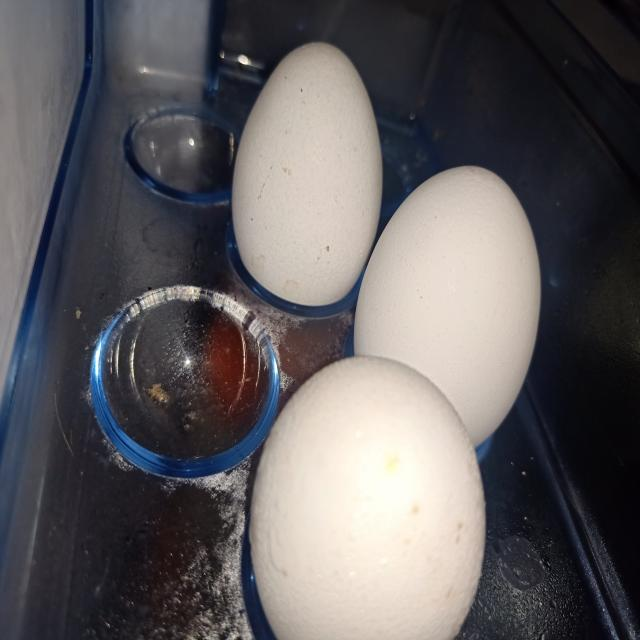Egg: (249, 356, 486, 639), (355, 165, 542, 447), (232, 41, 383, 306)
